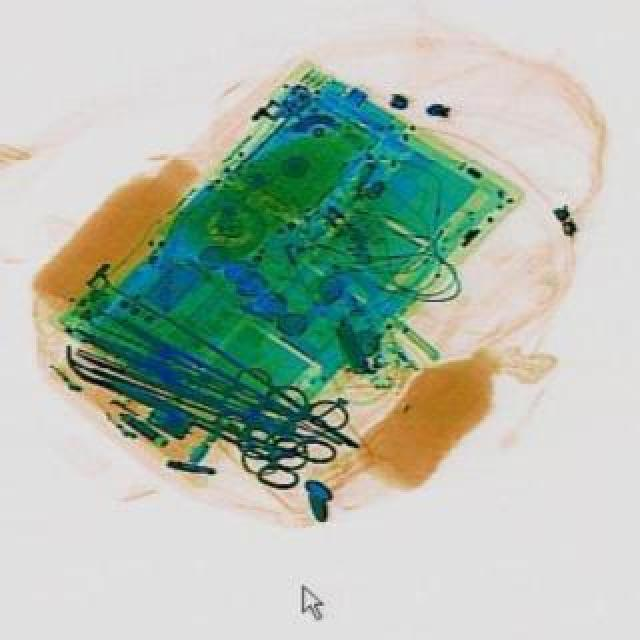pliers: (186, 392, 338, 504)
